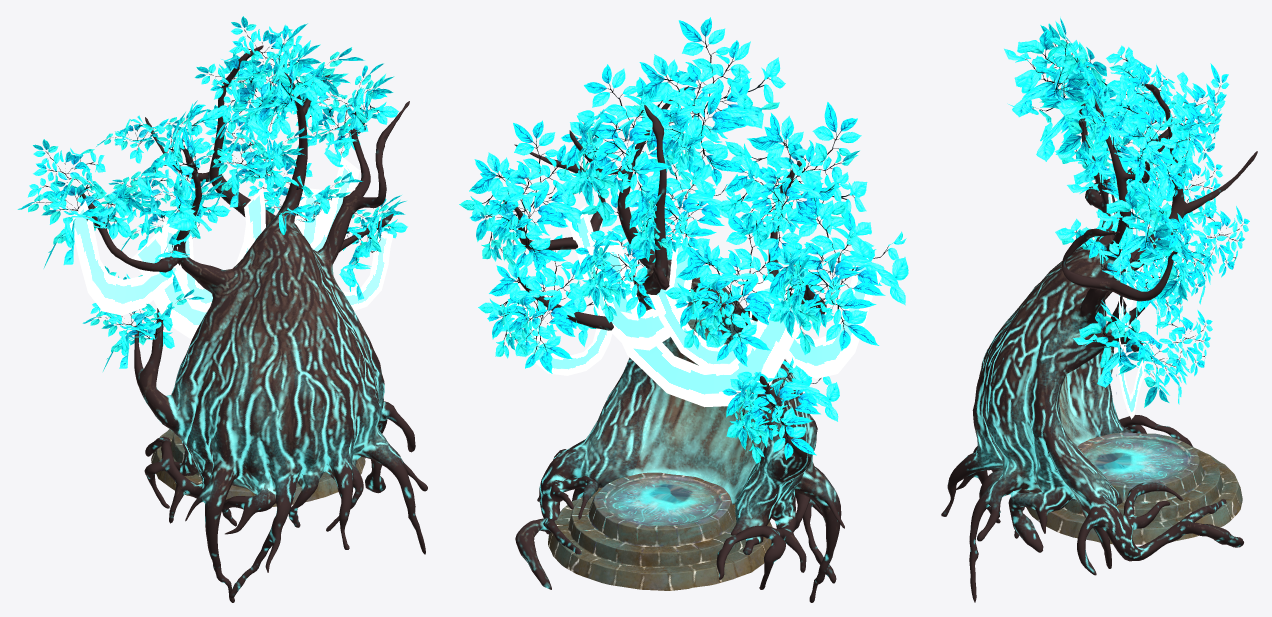
Rendered from arbolazul.fbx.
3 renders of one model, left to right at view 1: azimuth 30°, elevation 25°; view 2: azimuth 150°, elevation 25°; view 3: azimuth 270°, elevation 25°, orthographic. The views are drawn at different scales.
Parts seen in each view (by area): view 1: Object_0.001, Object_3.003, Object_4.003, Object_1.002; view 2: Object_3.003, Object_0.001, Object_1.002, Object_4.003; view 3: Object_0.001, Object_3.003, Object_1.002, Object_4.003.
Part boxes in pixels (box(x1,y1,x2,y2)): Object_0.001: box(81, 45, 427, 602); Object_3.003: box(17, 16, 407, 371); Object_4.003: box(70, 156, 393, 338); Object_1.002: box(151, 429, 365, 506); Object_3.003: box(459, 17, 908, 463); Object_0.001: box(503, 86, 844, 602); Object_1.002: box(548, 426, 772, 590); Object_4.003: box(508, 205, 881, 407); Object_0.001: box(941, 79, 1257, 602); Object_3.003: box(1004, 17, 1249, 407); Object_1.002: box(1026, 374, 1242, 544); Object_4.003: box(1108, 114, 1144, 419).
Bounding box in the file's own units: 9411 × 12542 × 6410.
Materials: 4 (4 with a texture image).
